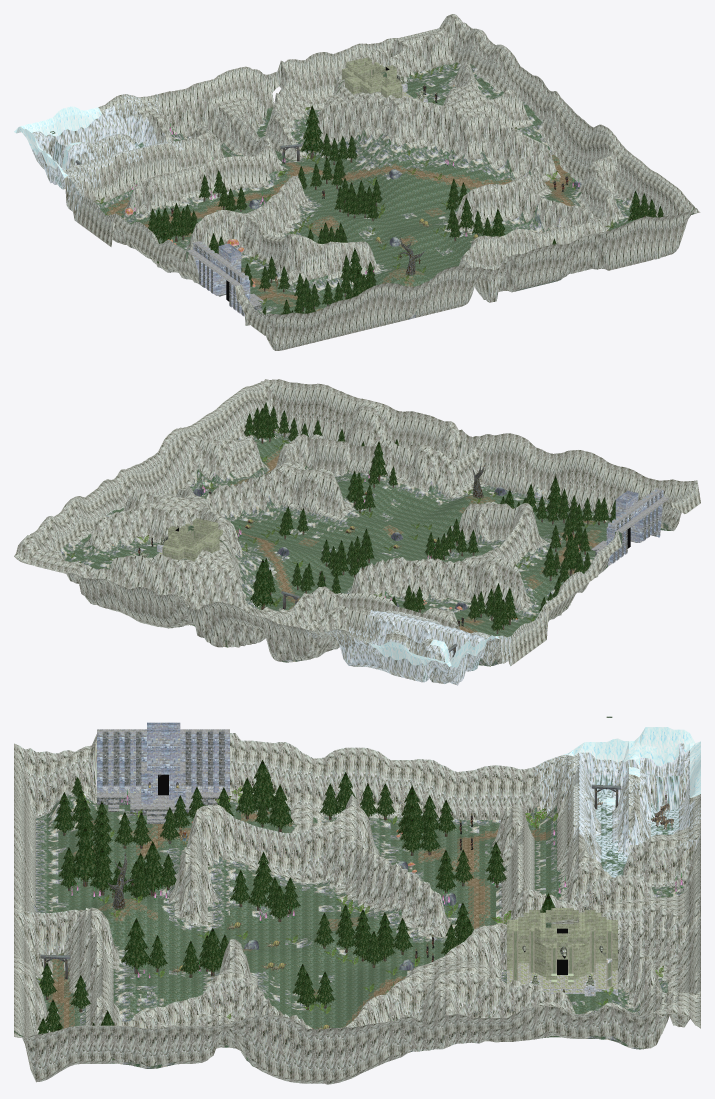
Rendered from ghostpass.gltf.
The picture shows the model from 3 angles, top to bottom: view 1: azimuth 30°, elevation 25°; view 2: azimuth 150°, elevation 25°; view 3: azimuth 270°, elevation 25°; orthographic projection. The views are drawn at different scales.
Size of the model in its own units: 124 by 20 by 124.
Materials: 41 (41 with a texture image).
